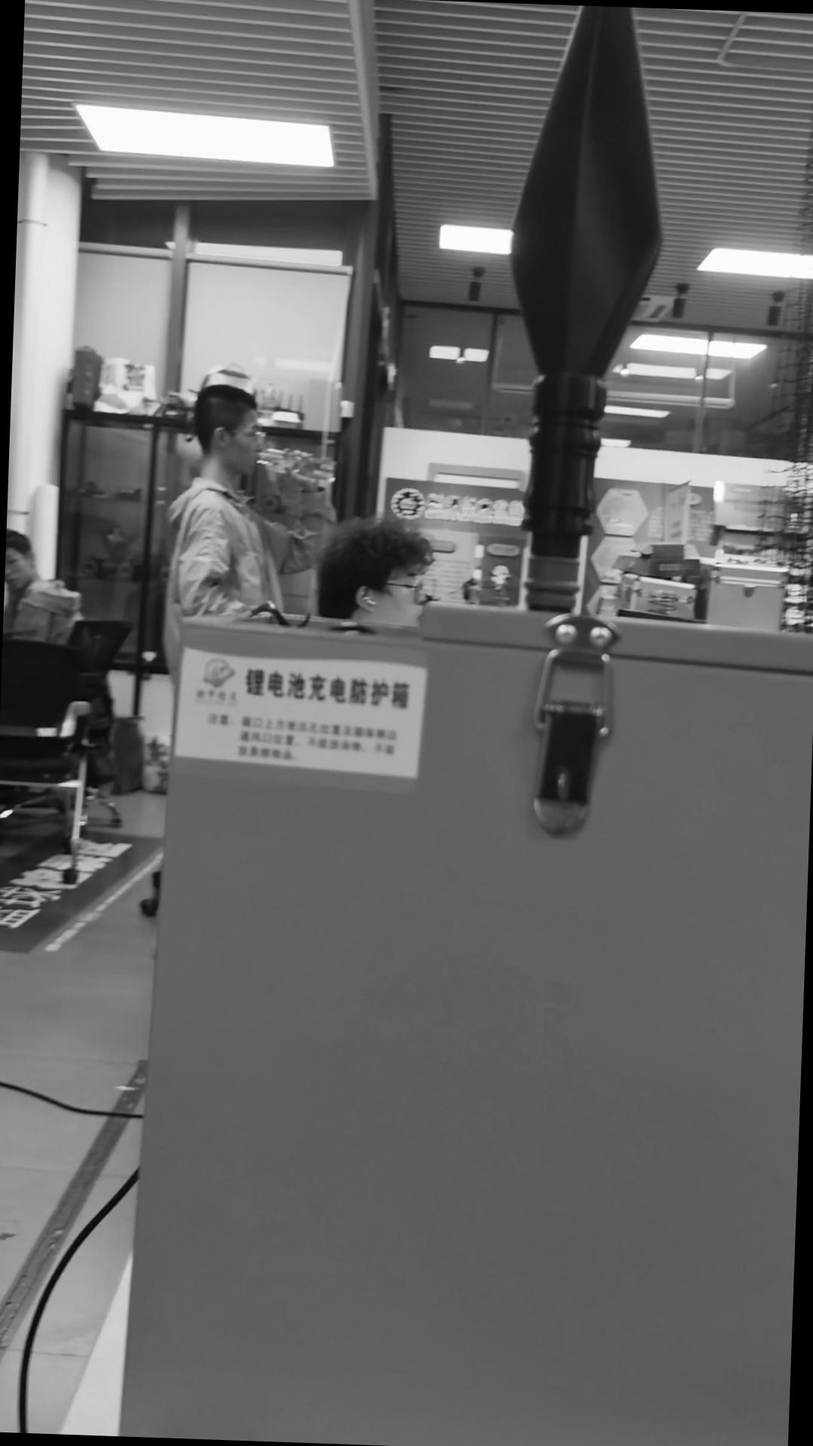base: (524, 554, 580, 616)
